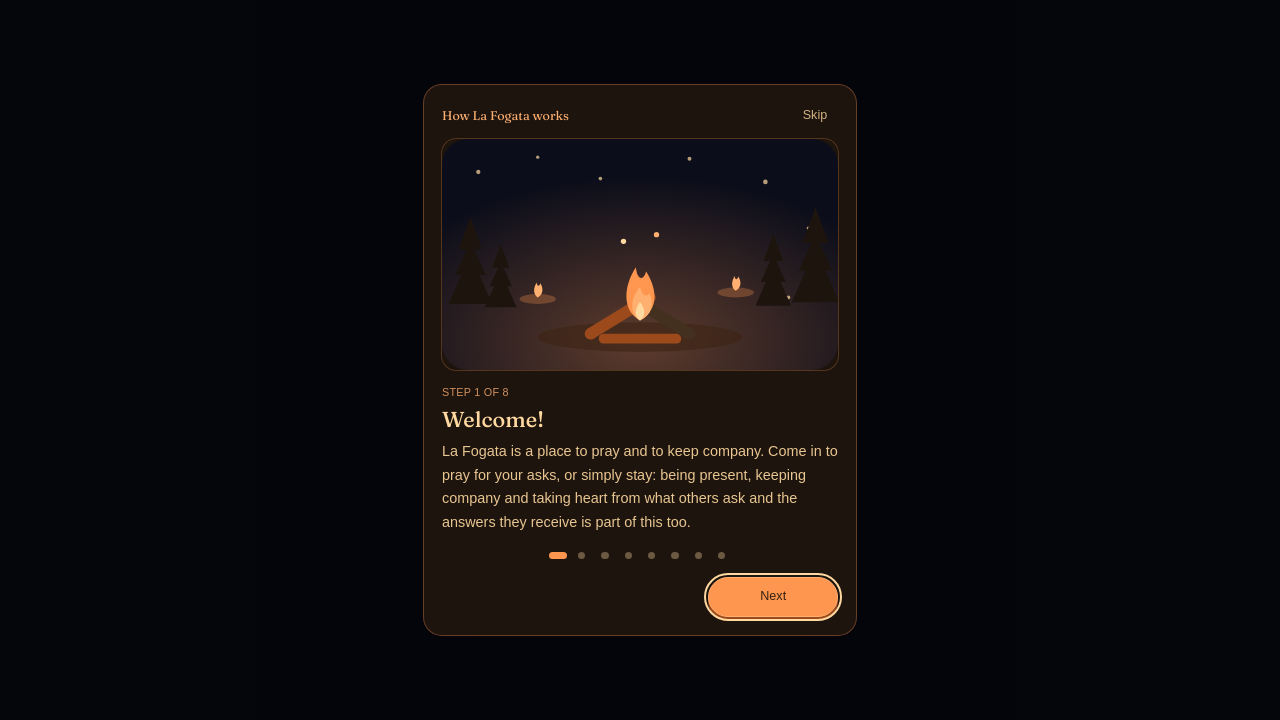
it: the tutorial, in en › has a dot for each step, which jumps to it and marks the one it is on
Step 1. Click the button named "Go to step 5" → click(652, 556), box left=641, top=545, right=662, bottom=566
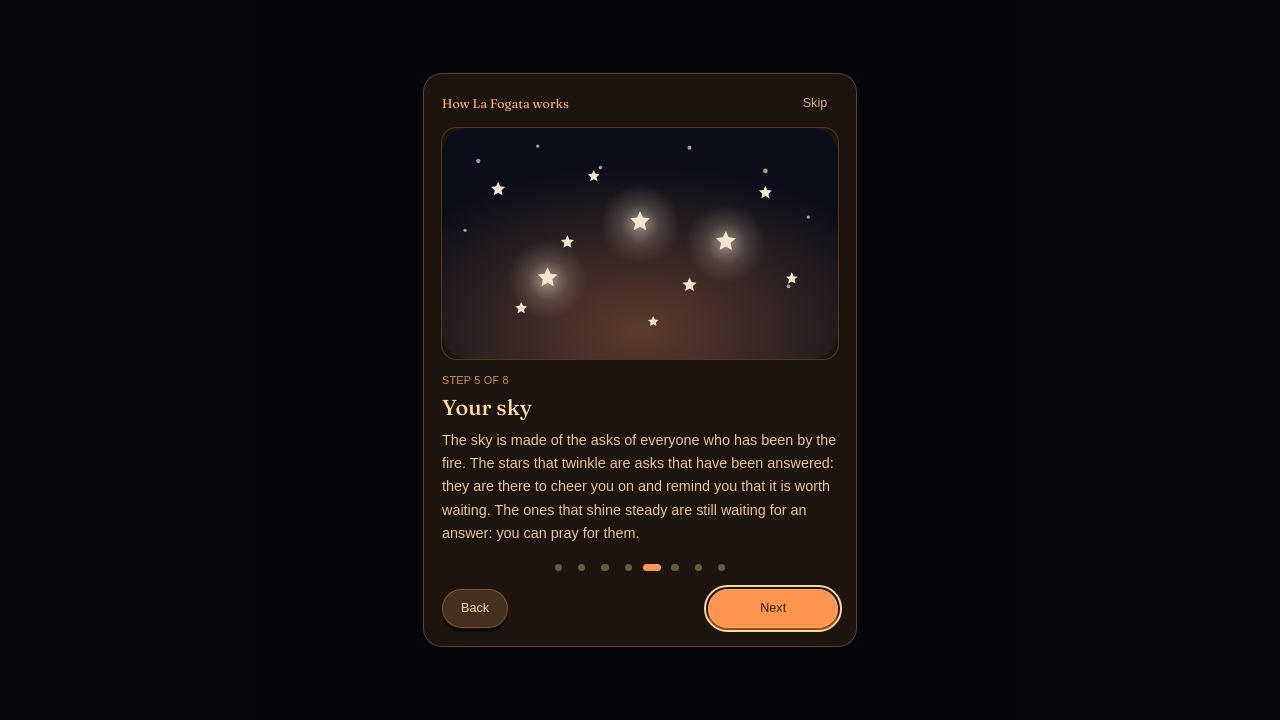
Now the heading "Your sky" is shown, box left=442, top=394, right=532, bottom=422
